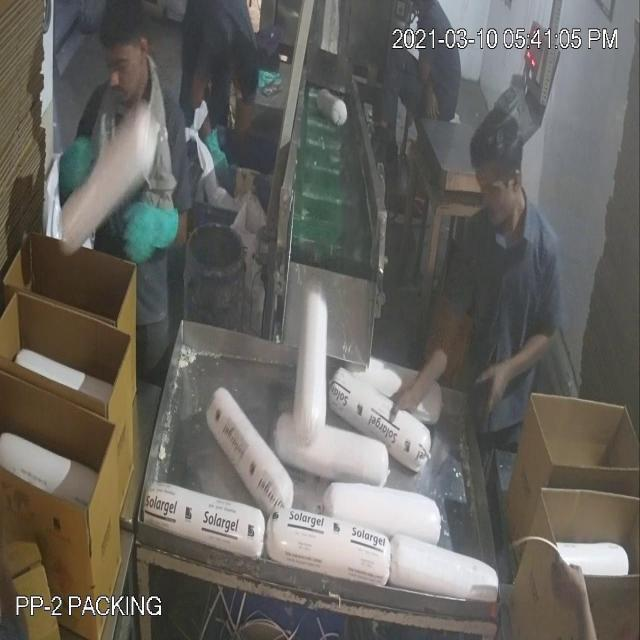Gloves: (88, 72, 522, 381)
